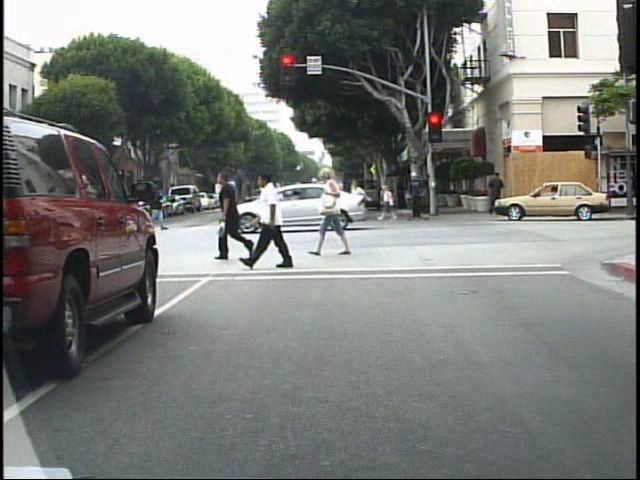person: (243, 175, 300, 273), (215, 167, 258, 265), (318, 164, 360, 258), (403, 164, 425, 224), (309, 173, 330, 224), (294, 179, 315, 225), (351, 176, 371, 223), (152, 179, 168, 232), (118, 180, 136, 227), (4, 192, 22, 238), (488, 169, 505, 206), (7, 198, 23, 236)
